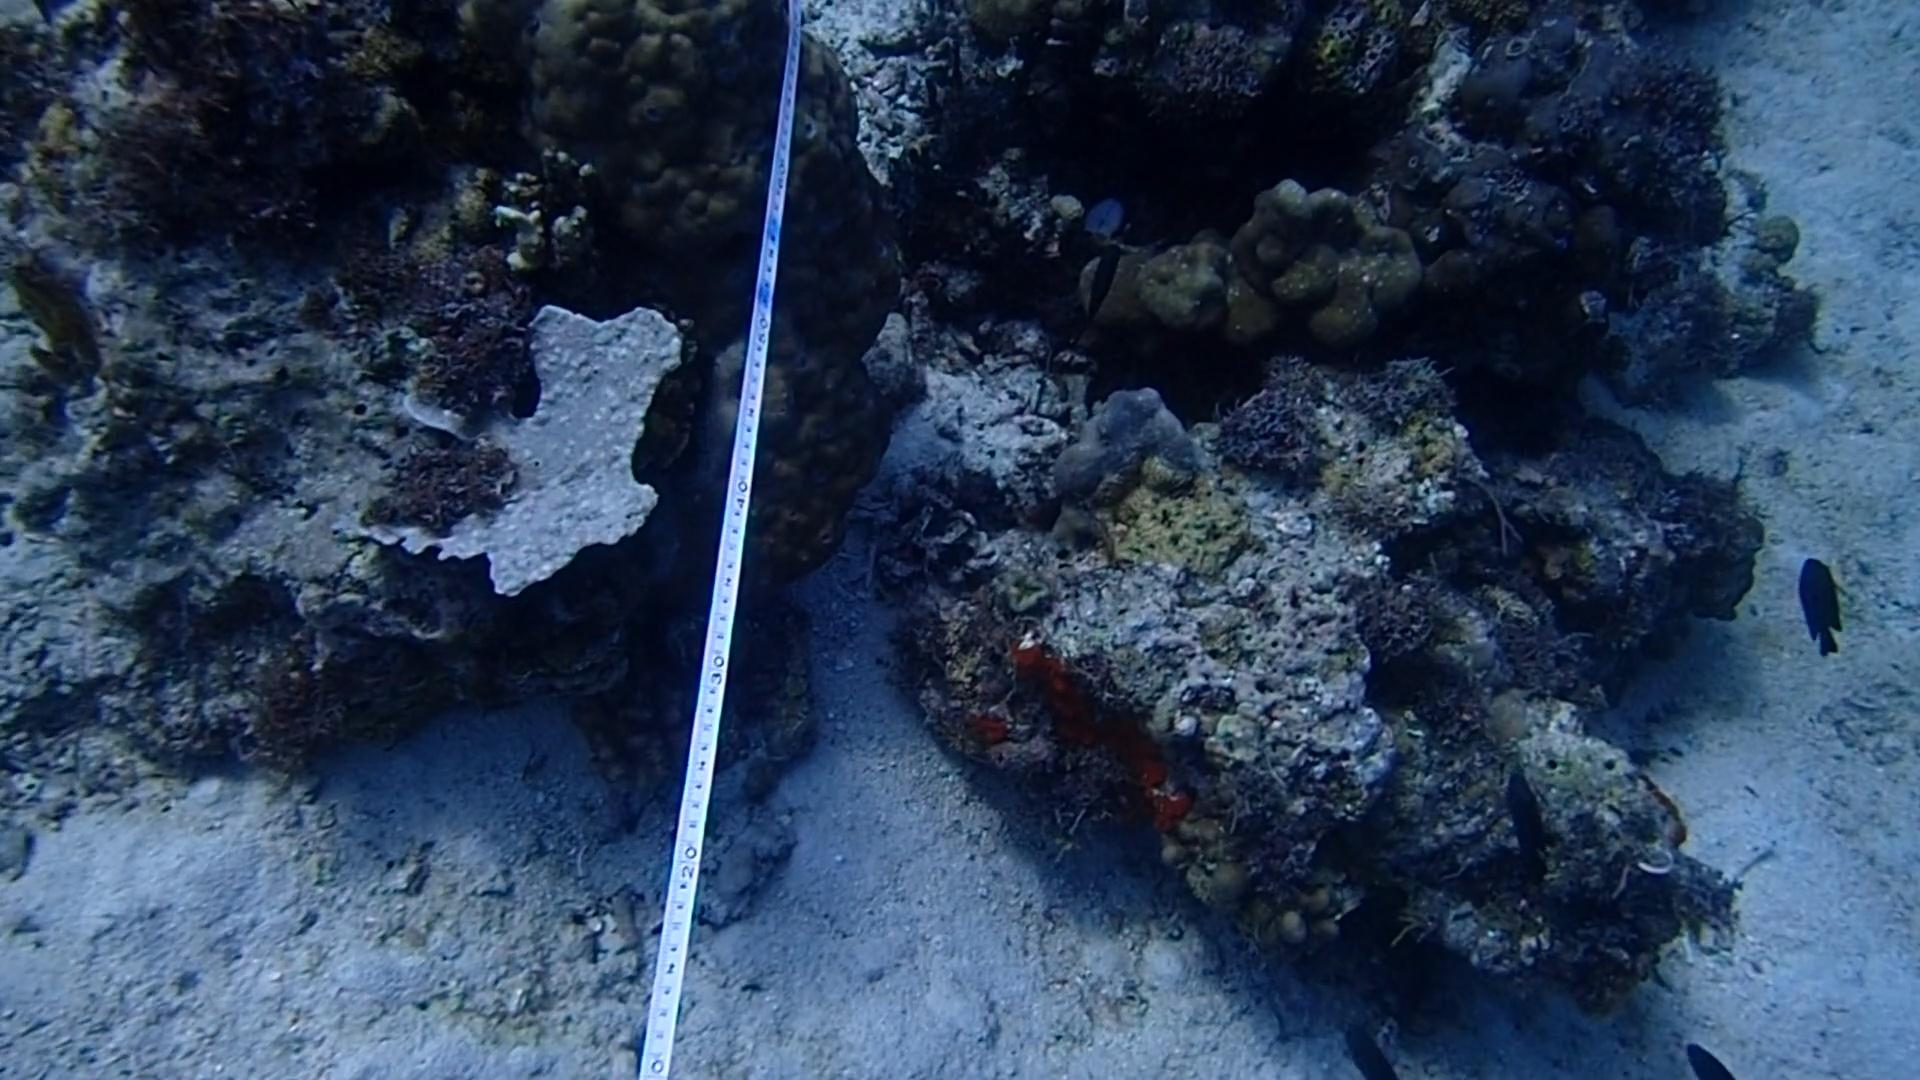Dark Fish: (1772, 546, 1859, 678), (1060, 229, 1143, 327)
